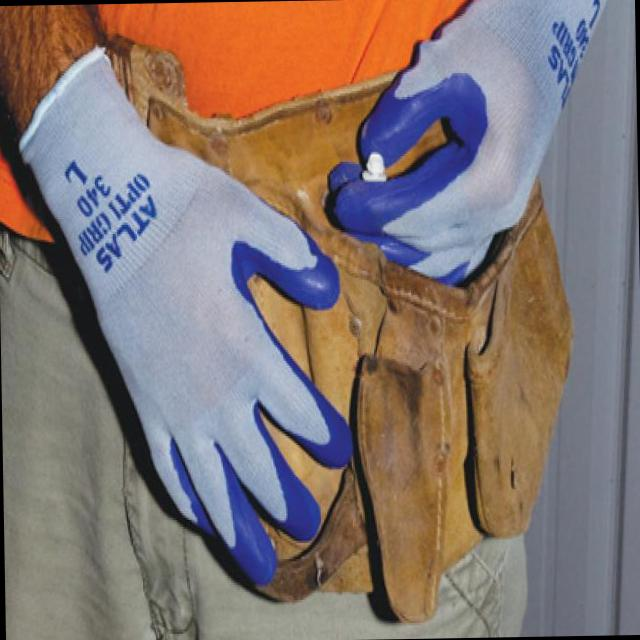Gloves: (16, 75, 357, 590), (330, 9, 626, 288)
